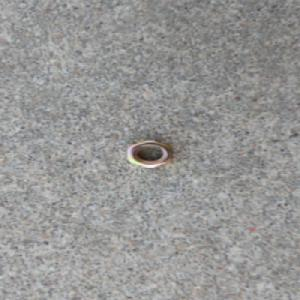Nut: (124, 139, 173, 168)
